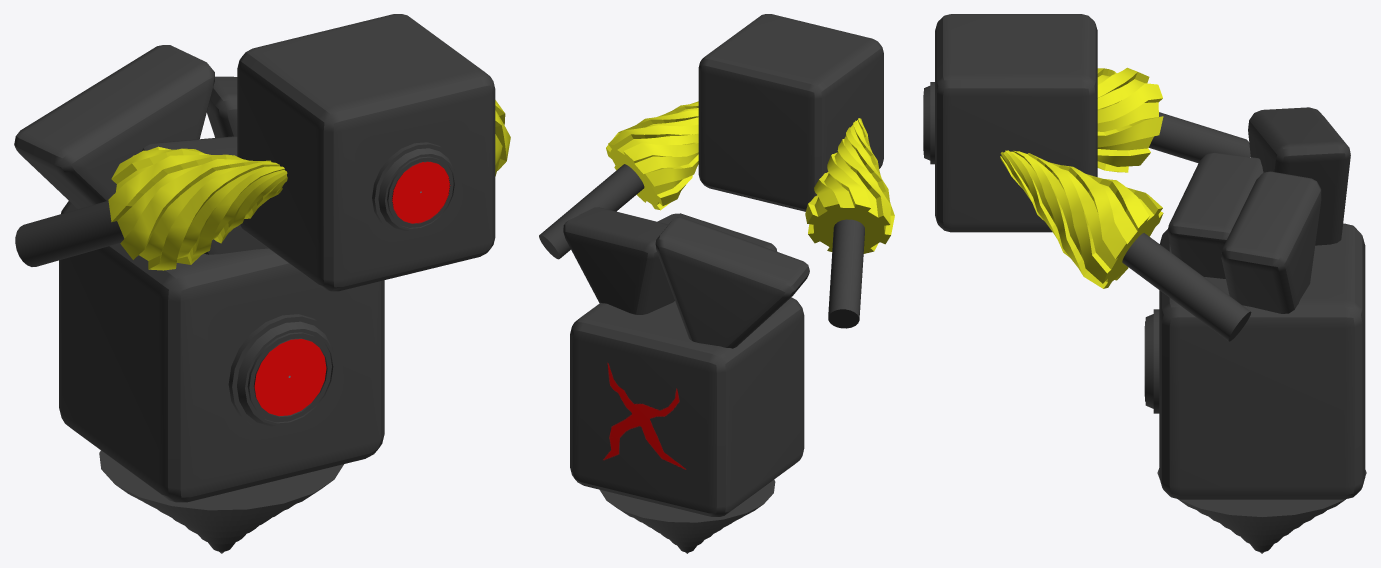
Rendered from Boss15.fbx.
The picture shows the model from 3 angles, left to right: view 1: azimuth 30°, elevation 25°; view 2: azimuth 150°, elevation 25°; view 3: azimuth 270°, elevation 25°; orthographic projection. The views are drawn at different scales.
Visible parts, largest first — view 1: polySurface1; view 2: polySurface1; view 3: polySurface1.
Boxes of the visible parts, x1=… form: polySurface1: x1=14, y1=14, x2=510, y2=553; polySurface1: x1=539, y1=14, x2=894, y2=553; polySurface1: x1=923, y1=14, x2=1366, y2=553.
Bounding box in the file's own units: 39.07 × 50.34 × 39.74.
